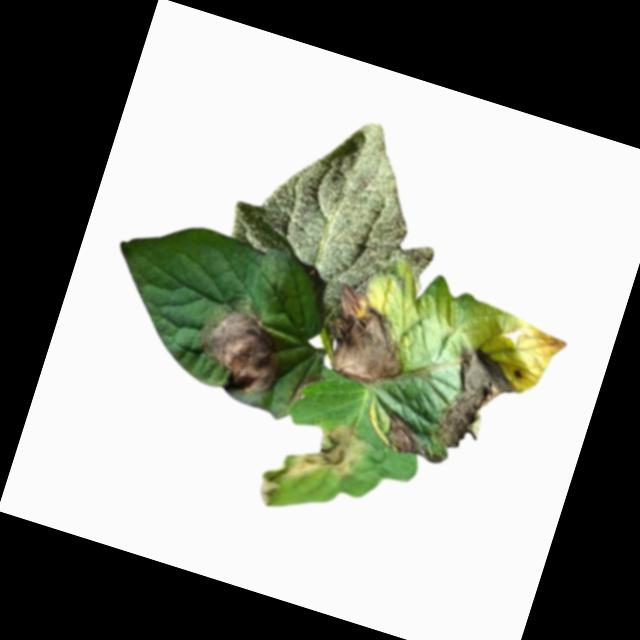Late_blight: (252, 400, 374, 531), (189, 289, 302, 402), (431, 340, 532, 463), (319, 284, 426, 394), (379, 408, 454, 468), (289, 366, 322, 409)
